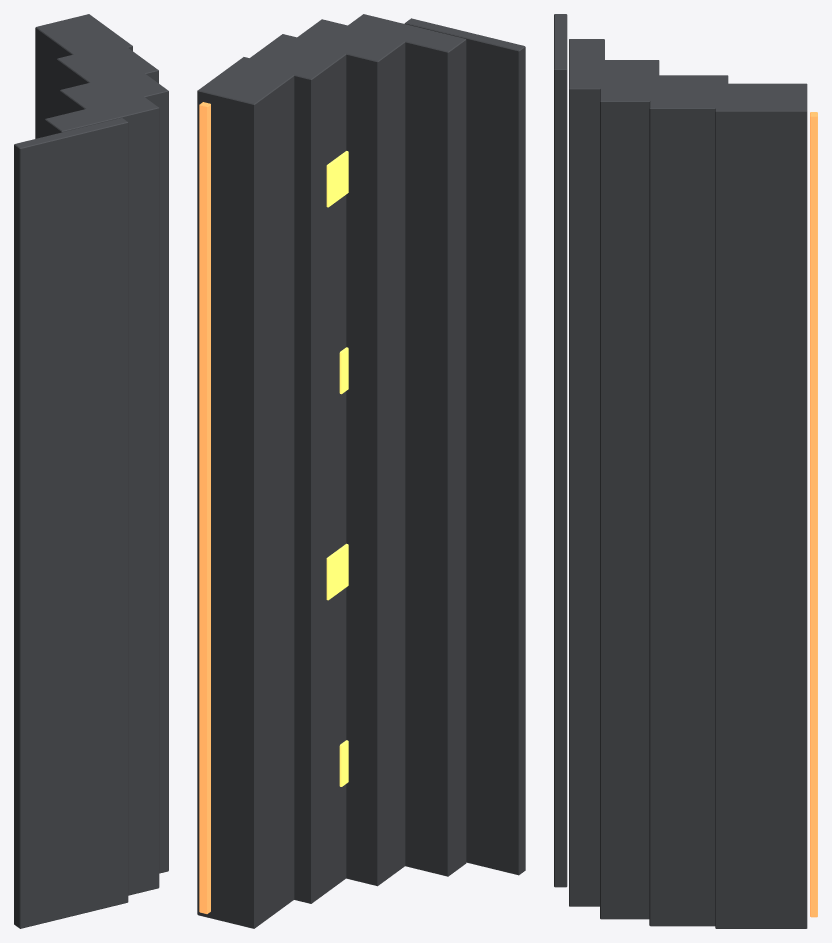
Rendered from bank_halfpipe.glb.
3 renders of one model, left to right at view 1: azimuth 30°, elevation 25°; view 2: azimuth 150°, elevation 25°; view 3: azimuth 270°, elevation 25°, orthographic. The views are drawn at different scales.
Parts seen in each view (by area): view 1: FlightKit_BankHalfpipe; view 2: FlightKit_BankHalfpipe; view 3: FlightKit_BankHalfpipe.
Boxes of the visible parts, x1,y1,x2,y2 form: FlightKit_BankHalfpipe: (14,14,168,928); FlightKit_BankHalfpipe: (197,14,525,928); FlightKit_BankHalfpipe: (554,14,817,928).
Bounding box in the file's own units: 3.5 × 13.72 × 4.01.
